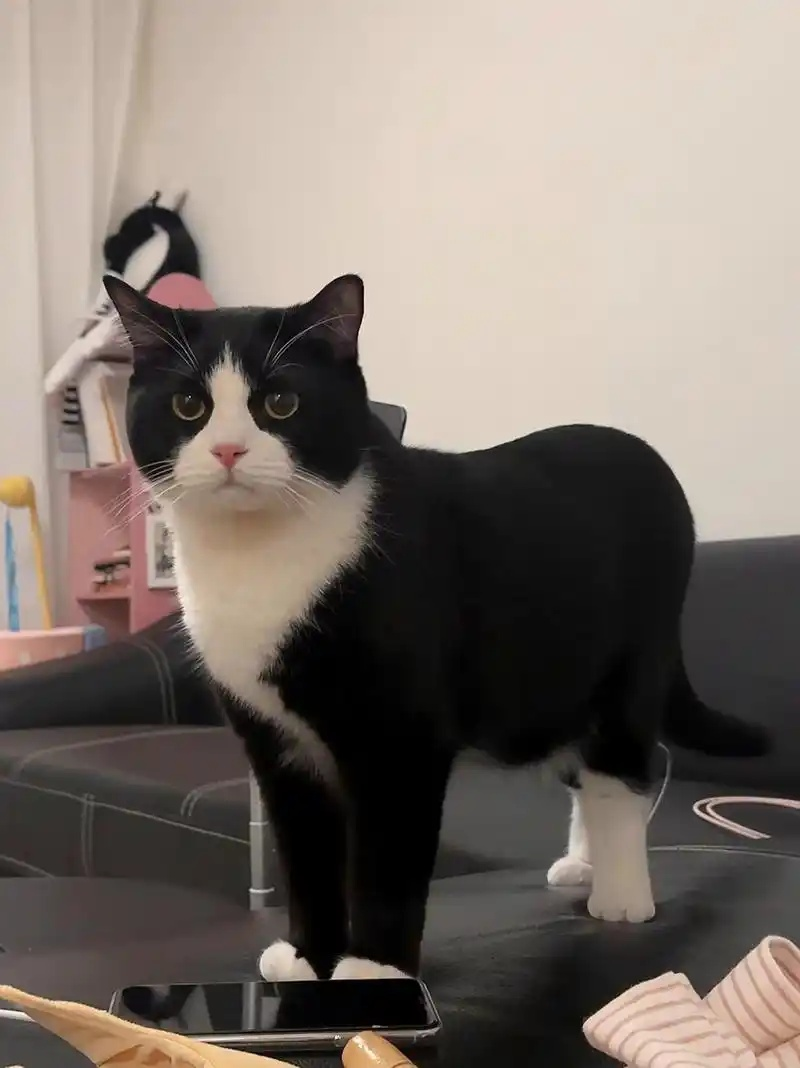奶牛猫: (105, 276, 692, 790)
